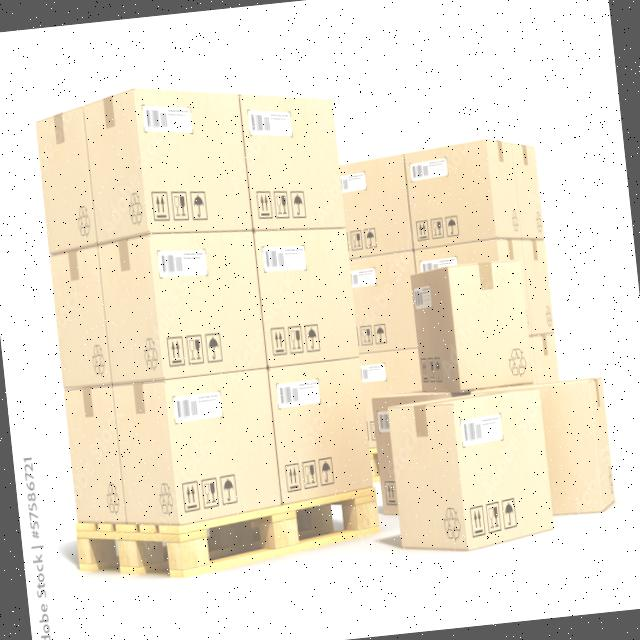pallet: (24, 73, 388, 597)
